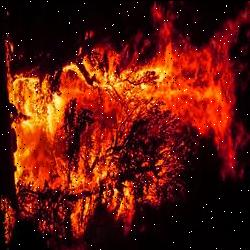fire: (0, 28, 241, 240)
